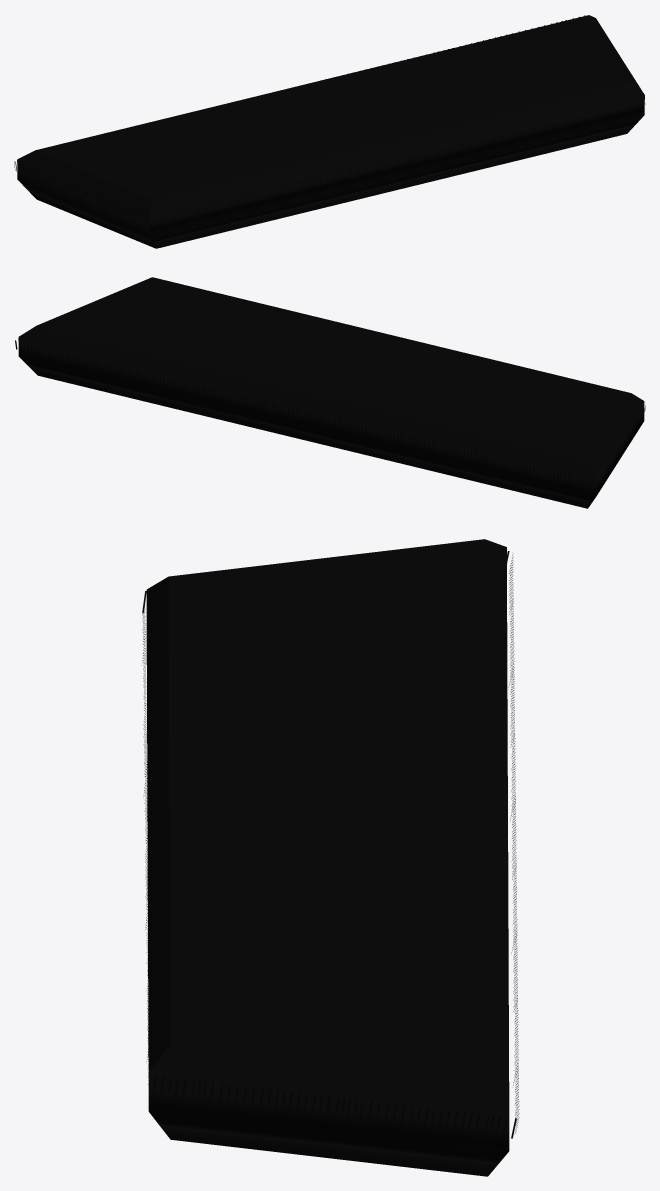
Rendered from platform-step.glb.
3 views of the same model, one above another, from view 1: azimuth 30°, elevation 25°; view 2: azimuth 150°, elevation 25°; view 3: azimuth 270°, elevation 25° (orthographic). The views are drawn at different scales.
Parts seen in each view (by area): view 1: Platform_Step; view 2: Platform_Step; view 3: Platform_Step.
Part boxes in pixels (x1=…): Platform_Step: x1=14, y1=15, x2=645, y2=248; Platform_Step: x1=15, y1=277, x2=645, y2=508; Platform_Step: x1=141, y1=539, x2=519, y2=1176.
Bounding box in the file's own units: 2.34 × 0.1962 × 0.6605.
3 materials, 2 textured.
